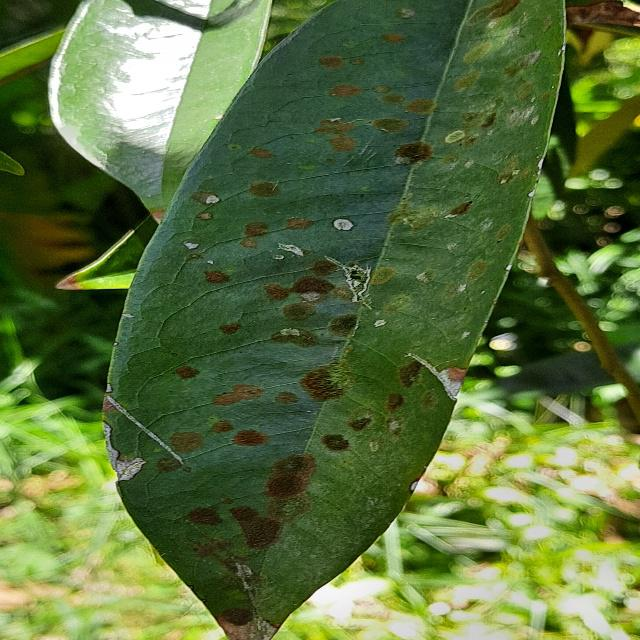Algal Leaf Spot: (95, 0, 578, 639)
